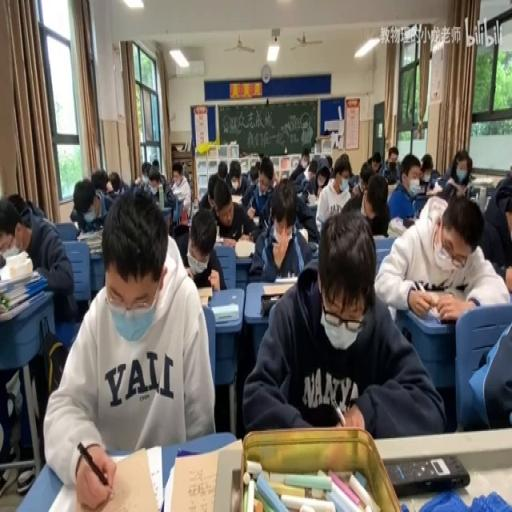calculator: (54, 444, 157, 509), (164, 448, 227, 512), (412, 283, 446, 323), (76, 228, 102, 252), (210, 300, 238, 322), (194, 283, 218, 307), (234, 238, 256, 258), (262, 283, 294, 296), (388, 216, 406, 238), (0, 245, 21, 260), (274, 274, 296, 282), (386, 182, 396, 199), (298, 226, 308, 243), (426, 186, 442, 195), (305, 194, 317, 206), (213, 233, 224, 245), (372, 232, 388, 240), (230, 195, 242, 205), (414, 191, 428, 199), (192, 199, 198, 215), (252, 214, 259, 224)
paper: (242, 209, 436, 437), (0, 192, 76, 486), (467, 302, 511, 426), (207, 179, 255, 253), (479, 168, 512, 274), (314, 152, 354, 236), (350, 169, 392, 238), (386, 152, 422, 223), (435, 149, 474, 202), (166, 163, 192, 232), (298, 158, 322, 196), (197, 173, 219, 212), (103, 166, 128, 196), (226, 158, 247, 193), (6, 194, 32, 220), (418, 154, 434, 192), (146, 160, 166, 190), (342, 190, 362, 212), (90, 170, 108, 194), (497, 263, 512, 290), (130, 165, 144, 189), (266, 162, 278, 188), (347, 172, 361, 192), (467, 185, 480, 202), (217, 159, 228, 179), (248, 165, 258, 186), (370, 152, 380, 172), (141, 162, 151, 176), (388, 150, 398, 164), (258, 151, 266, 168), (323, 154, 331, 170), (302, 151, 310, 166), (150, 158, 158, 166)
person: (385, 454, 470, 496), (259, 294, 285, 316), (230, 468, 242, 510), (403, 215, 415, 226)
